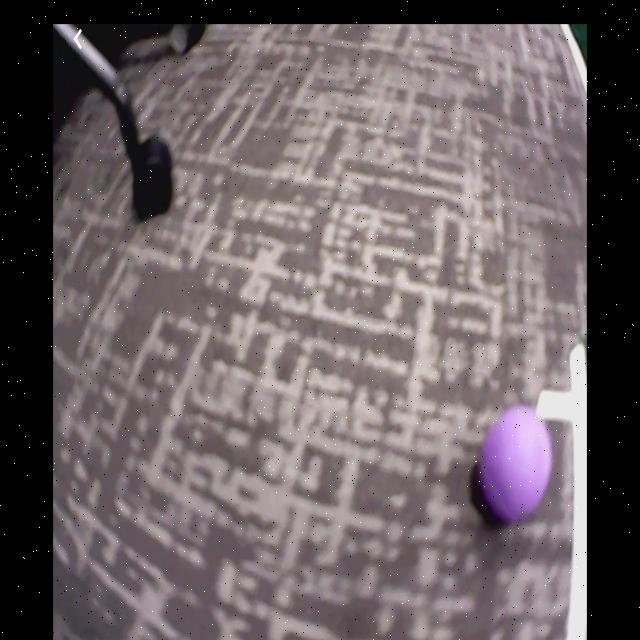ball: (478, 404, 555, 525)
